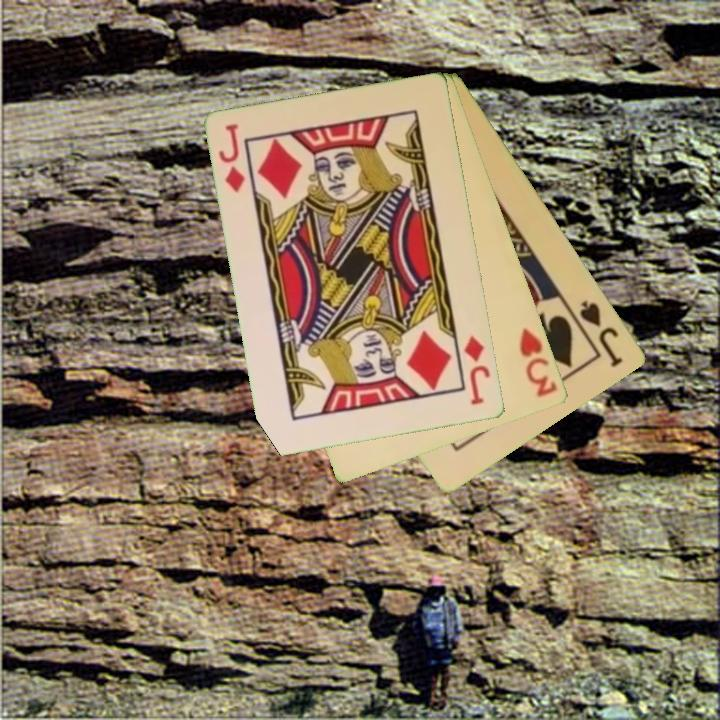3h: (516, 324, 561, 401)
Jd: (215, 120, 249, 196), (461, 332, 494, 408)
Js: (576, 296, 627, 371)
